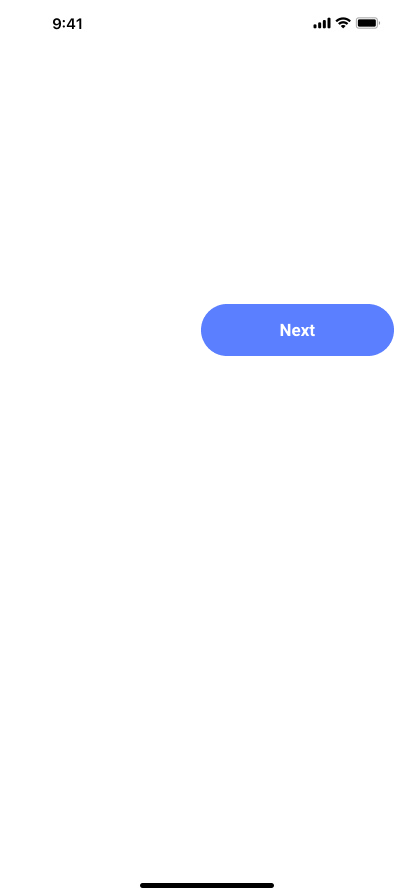Buttons: (201, 304, 394, 356)
Home Indicator: (0, 862, 414, 896)
Status Bar: (0, 0, 414, 44)
